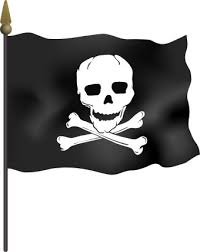Jolly Roger Flag: (3, 32, 200, 174)
